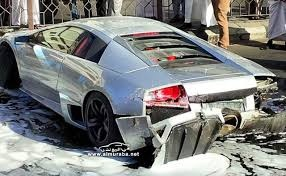Broken-glass: (147, 85, 190, 105), (253, 77, 276, 87)
Smashed: (136, 68, 279, 146)
